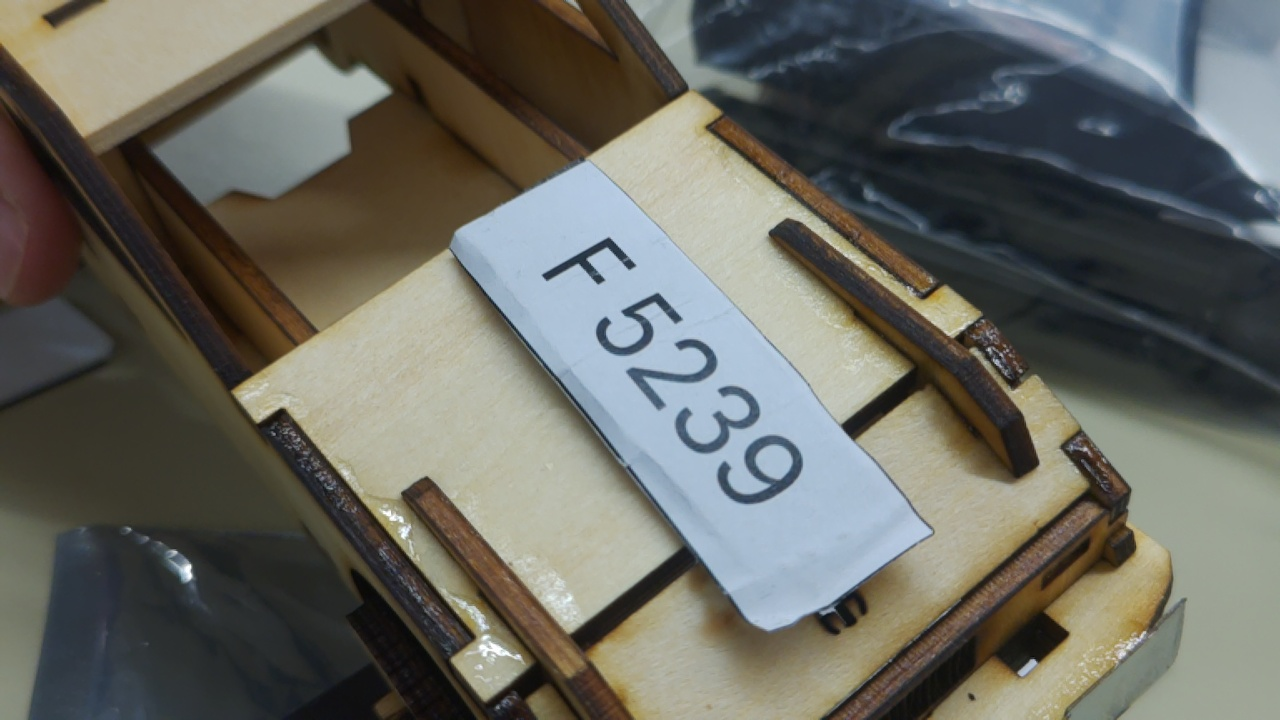license_plate: (441, 148, 947, 650)
